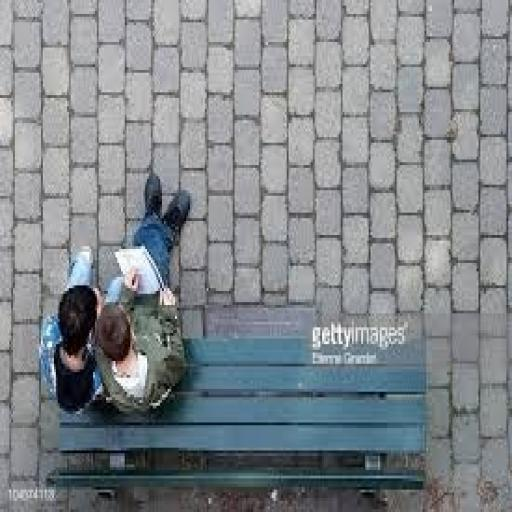sitting: (48, 165, 196, 420)
